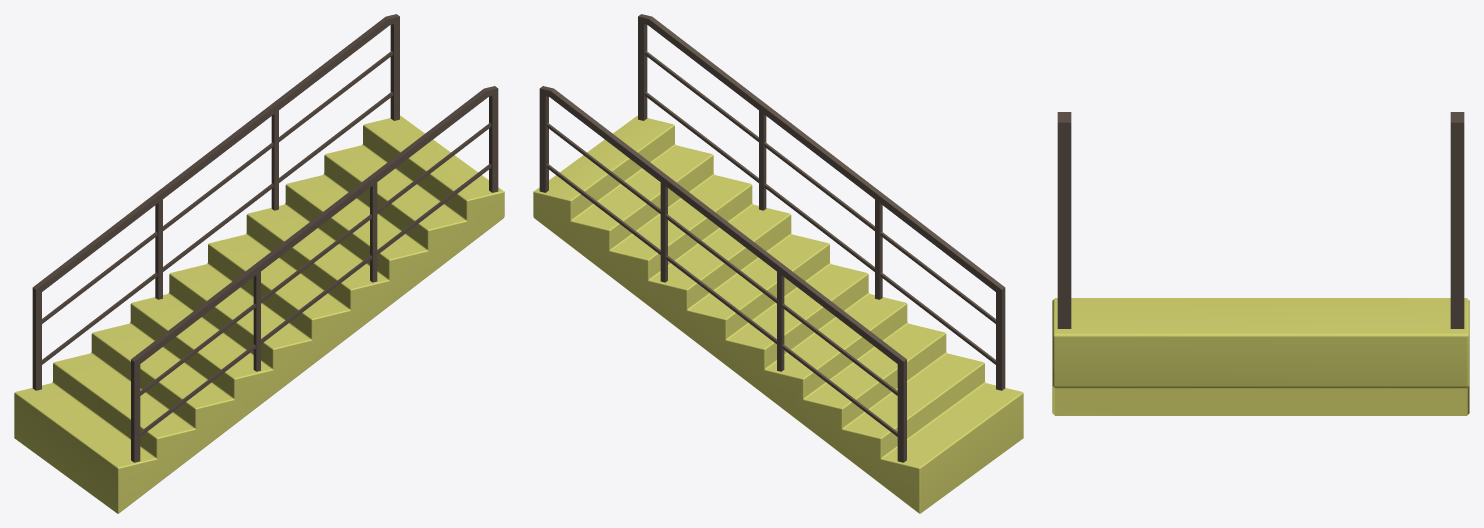
The model's file is DBK_Stairs_Concrete_Short.FBX.
3 renders of one model, left to right at view 1: azimuth 30°, elevation 25°; view 2: azimuth 150°, elevation 25°; view 3: azimuth 270°, elevation 25°, orthographic. The views are drawn at different scales.
Visible parts, largest first — view 1: DBK_Stairs_Concrete_Short, DBK_Stairs_Concrete_Short_Rail_R, DBK_Stairs_Concrete_Short_Rail_L; view 2: DBK_Stairs_Concrete_Short, DBK_Stairs_Concrete_Short_Rail_L, DBK_Stairs_Concrete_Short_Rail_R; view 3: DBK_Stairs_Concrete_Short, DBK_Stairs_Concrete_Short_Rail_L, DBK_Stairs_Concrete_Short_Rail_R.
Boxes of the visible parts, box(x1,y1,x2,y2) form: DBK_Stairs_Concrete_Short: box(14, 115, 504, 513); DBK_Stairs_Concrete_Short_Rail_R: box(131, 86, 498, 462); DBK_Stairs_Concrete_Short_Rail_L: box(32, 14, 399, 390); DBK_Stairs_Concrete_Short: box(533, 115, 1023, 513); DBK_Stairs_Concrete_Short_Rail_L: box(539, 86, 906, 462); DBK_Stairs_Concrete_Short_Rail_R: box(638, 14, 1005, 390); DBK_Stairs_Concrete_Short: box(1052, 298, 1469, 415); DBK_Stairs_Concrete_Short_Rail_L: box(1450, 112, 1464, 328); DBK_Stairs_Concrete_Short_Rail_R: box(1057, 112, 1071, 328).
Bounding box in the file's own units: 300 × 246 × 140.
